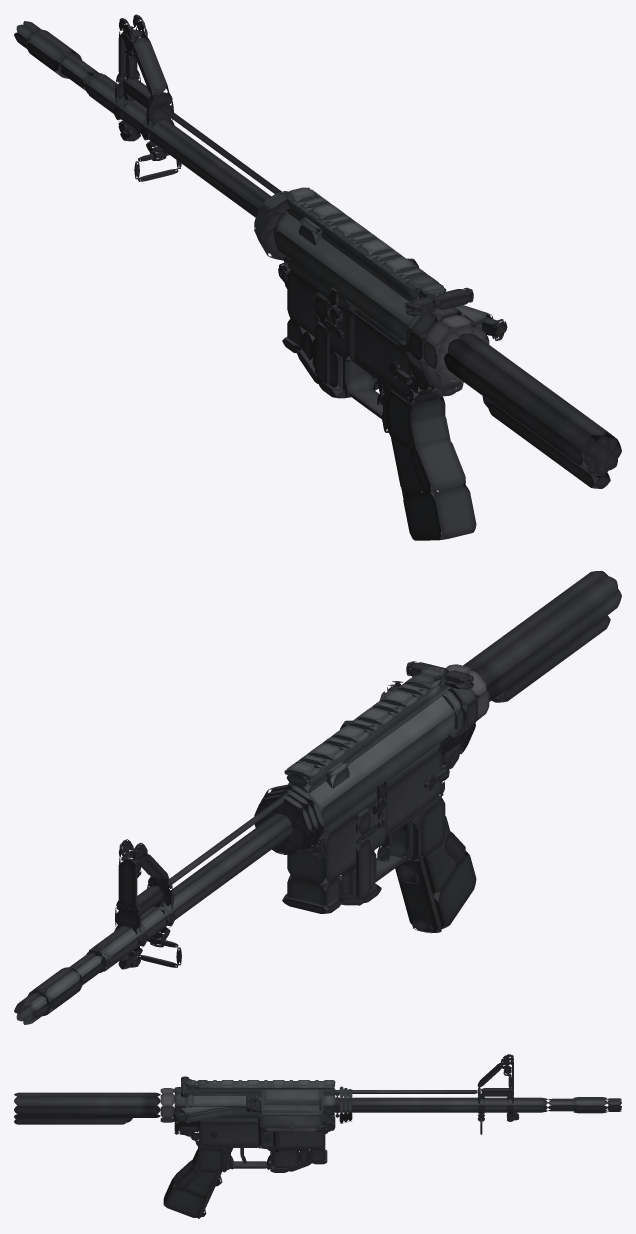
Rendered from m4_body.obj.
3 views of the same model, one above another, from view 1: azimuth 30°, elevation 25°; view 2: azimuth 150°, elevation 25°; view 3: azimuth 270°, elevation 25° (orthographic). The views are drawn at different scales.
Parts seen in each view (by area): view 1: cube, octagon; view 2: cube, octagon; view 3: octagon, cube.
Boxes of the visible parts, x1,y1,x2,y2 form: cube: (115,14,507,540); octagon: (14,21,621,488); cube: (115,662,477,969); octagon: (14,571,621,1024); octagon: (14,1076,621,1138); cube: (163,1054,519,1218).
Bounding box in the file's own units: 0.2086 × 0.6469 × 2.23.
